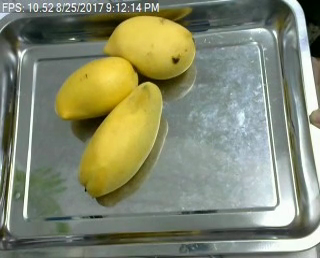Mango: (78, 81, 164, 199), (103, 17, 196, 81), (56, 55, 142, 123)
